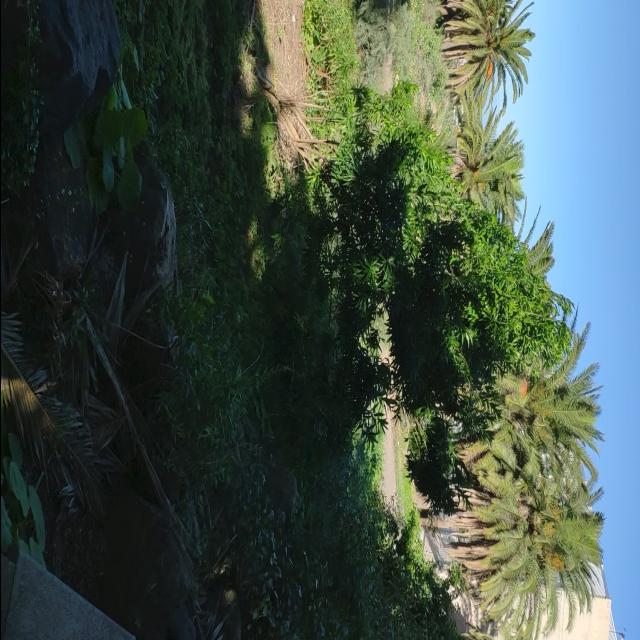Palm-Trees: (420, 414, 604, 635), (432, 0, 534, 101)
